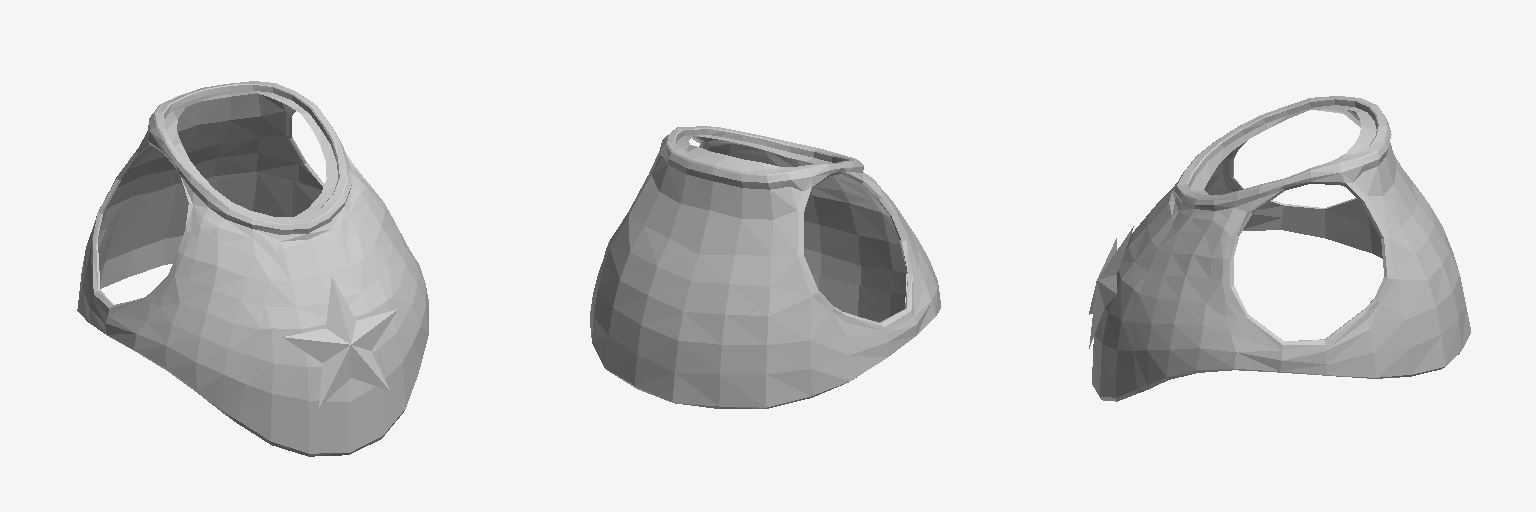
File: clothes-1.obj
3 renders of one model, left to right at view 1: azimuth 30°, elevation 25°; view 2: azimuth 150°, elevation 25°; view 3: azimuth 270°, elevation 25°, orthographic.
Parts seen in each view (by area): view 1: polySurface240; view 2: polySurface240; view 3: polySurface240.
Part boxes in pixels (x1,y1,x2,y2): polySurface240: (77,81,428,456); polySurface240: (590,126,940,408); polySurface240: (1089,96,1470,401).
Bounding box in the file's own units: 4.77 × 4 × 5.29.